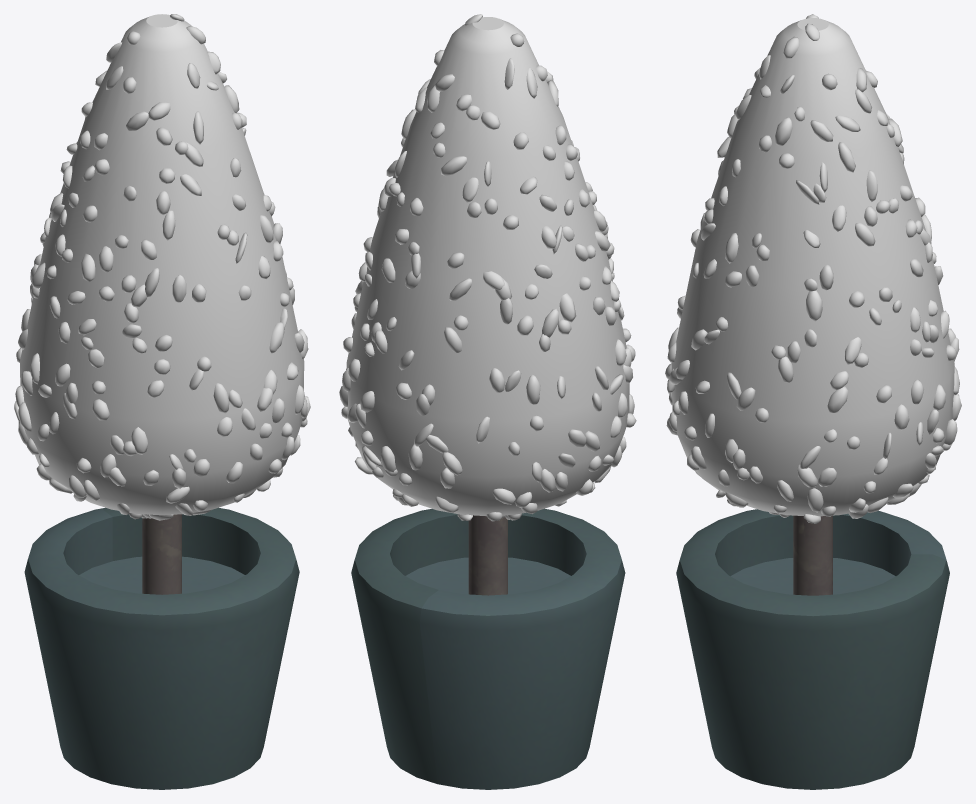
Rendered from PlantPot.fbx.
3 renders of one model, left to right at view 1: azimuth 30°, elevation 25°; view 2: azimuth 150°, elevation 25°; view 3: azimuth 270°, elevation 25°, orthographic.
Visible parts, largest first — view 1: Cylinder.005, Cylinder.004, Cylinder.006; view 2: Cylinder.005, Cylinder.004, Cylinder.006; view 3: Cylinder.005, Cylinder.004, Cylinder.006.
Part boxes in pixels (x1,y1,x2,y2): Cylinder.005: [14, 14, 310, 520]; Cylinder.004: [24, 507, 299, 789]; Cylinder.006: [142, 514, 181, 594]; Cylinder.005: [339, 14, 636, 521]; Cylinder.004: [351, 508, 625, 789]; Cylinder.006: [468, 515, 507, 595]; Cylinder.005: [665, 14, 961, 523]; Cylinder.004: [676, 509, 949, 789]; Cylinder.006: [793, 515, 832, 595].
Bounding box in the file's own units: 37.07 × 101 × 37.27.
